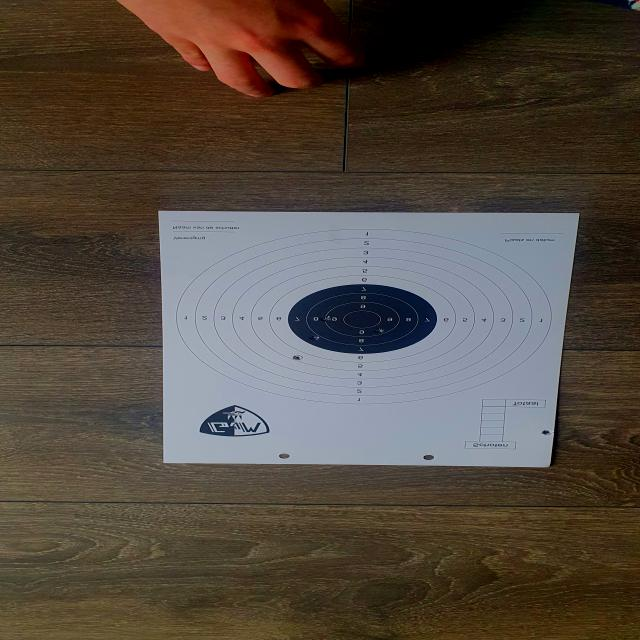0: (540, 430, 554, 436)
5: (292, 354, 306, 362)
7: (308, 336, 322, 342)
9: (318, 316, 332, 322), (373, 328, 387, 334)
Target: (175, 228, 555, 405)
black_contour: (287, 284, 438, 354)
